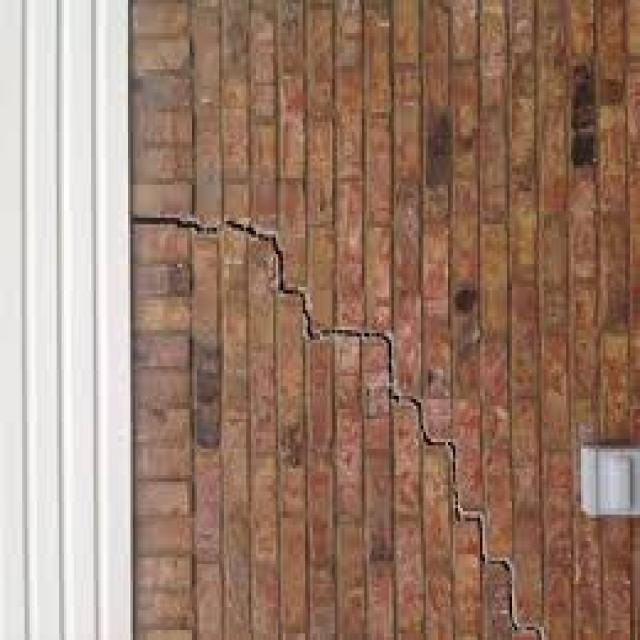Crack: (126, 208, 542, 637)
